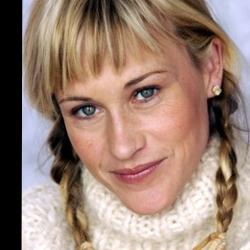face: (24, 1, 250, 220)
